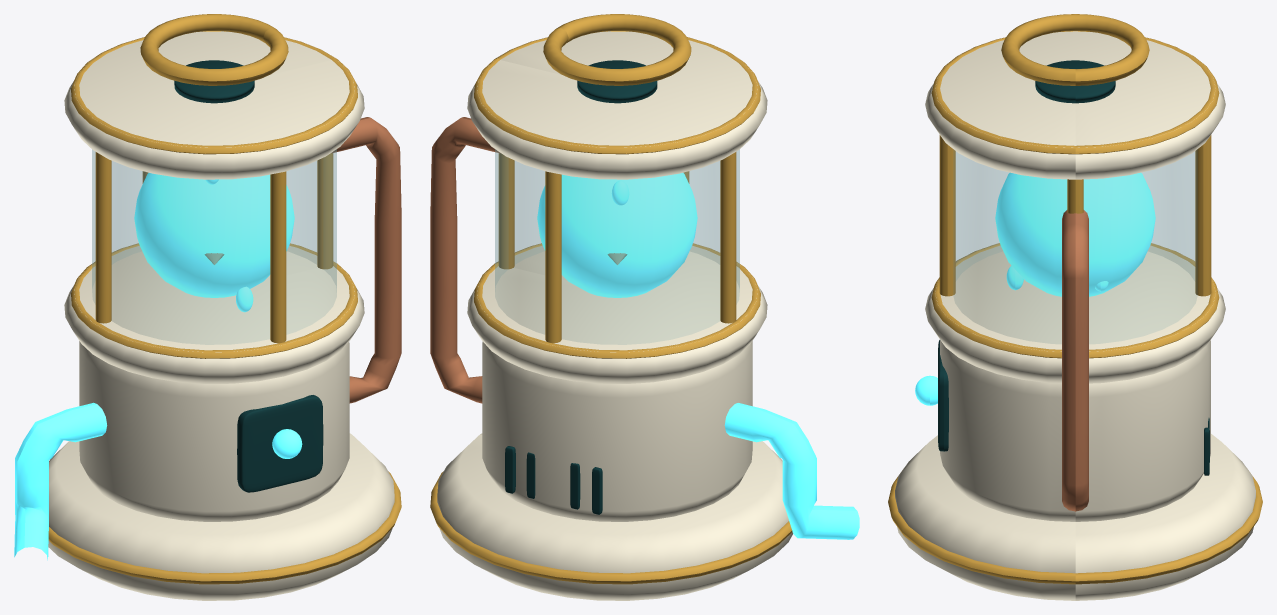
File: condenser.glb
The picture shows the model from 3 angles, left to right: view 1: azimuth 30°, elevation 25°; view 2: azimuth 150°, elevation 25°; view 3: azimuth 270°, elevation 25°; orthographic projection.
Parts seen in each view (by area): view 1: condenser, water-orb, status-light, bubbles; view 2: condenser, water-orb; view 3: condenser, water-orb, status-light.
Boxes of the visible parts, box(x1,y1,x2,y2) form: condenser: box(14, 14, 401, 600); water-orb: box(134, 173, 294, 297); status-light: box(272, 429, 302, 458); bubbles: box(204, 179, 253, 312); condenser: box(430, 14, 859, 600); water-orb: box(537, 173, 697, 297); condenser: box(888, 14, 1262, 600); water-orb: box(995, 172, 1155, 296); status-light: box(915, 375, 937, 405).
Bounding box in the file's own units: 0.9365 × 1.09 × 0.748.
